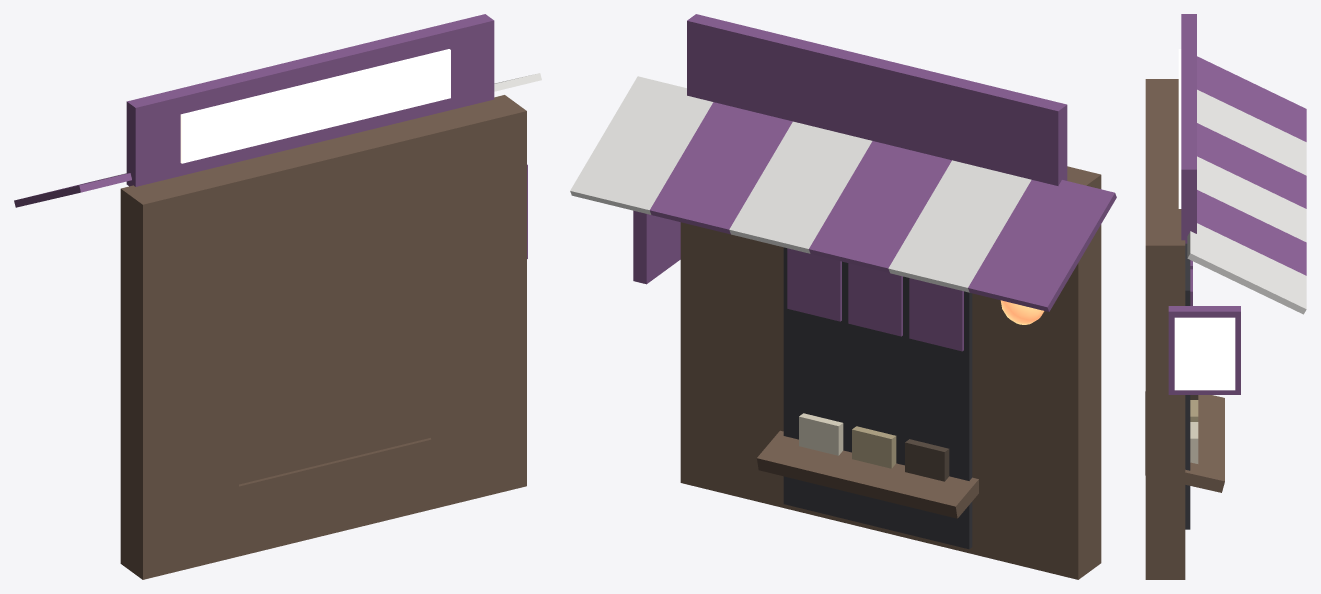
The model's file is prop_mise_gofuku.glb.
3 views of the same model, side by side, from view 1: azimuth 30°, elevation 25°; view 2: azimuth 150°, elevation 25°; view 3: azimuth 270°, elevation 25° (orthographic). The views are drawn at different scales.
Parts seen in each view (by area): view 1: mise_gofuku; view 2: mise_gofuku; view 3: mise_gofuku.
Boxes of the visible parts, box(x1,y1,x2,y2) form: mise_gofuku: box(14, 14, 541, 579); mise_gofuku: box(570, 14, 1116, 579); mise_gofuku: box(1145, 14, 1306, 579).
Bounding box in the file's own units: 3.6 × 3.39 × 1.23.
